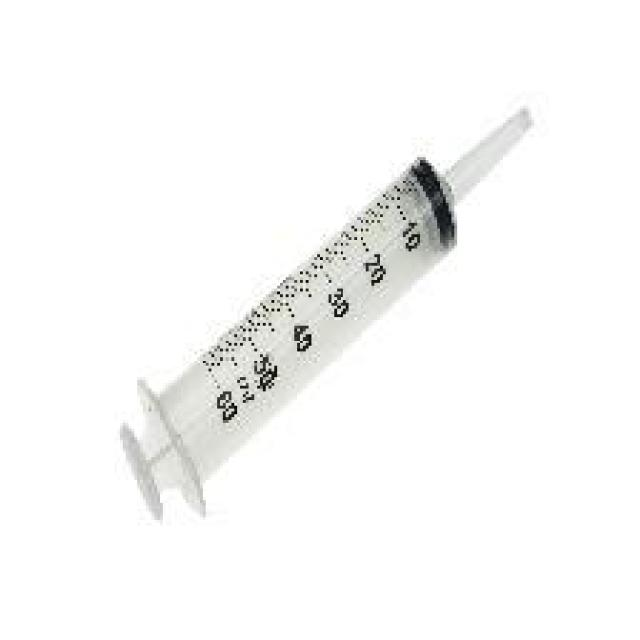syringe: (118, 82, 553, 592)
